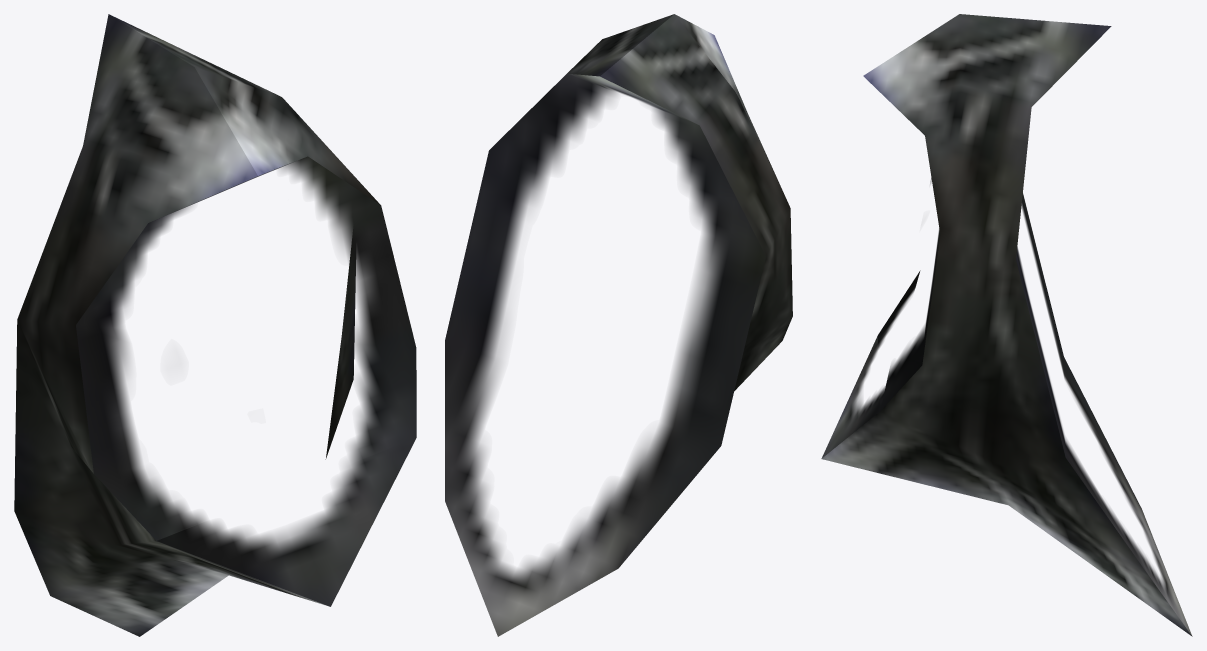
Rendered from shadow_pawn_7_ankle_left.glb.
The picture shows the model from 3 angles, left to right: view 1: azimuth 30°, elevation 25°; view 2: azimuth 150°, elevation 25°; view 3: azimuth 270°, elevation 25°; orthographic projection. The views are drawn at different scales.
Parts seen in each view (by area): view 1: model_shadow_pawn_7_ankle_left; view 2: model_shadow_pawn_7_ankle_left; view 3: model_shadow_pawn_7_ankle_left.
Part boxes in pixels (<box>): model_shadow_pawn_7_ankle_left: <box>14,14,416,636</box>; model_shadow_pawn_7_ankle_left: <box>445,14,792,636</box>; model_shadow_pawn_7_ankle_left: <box>821,14,1192,636</box>.
Bounding box in the file's own units: 0.1743 × 0.3134 × 0.1791.
1 material, 1 textured.
